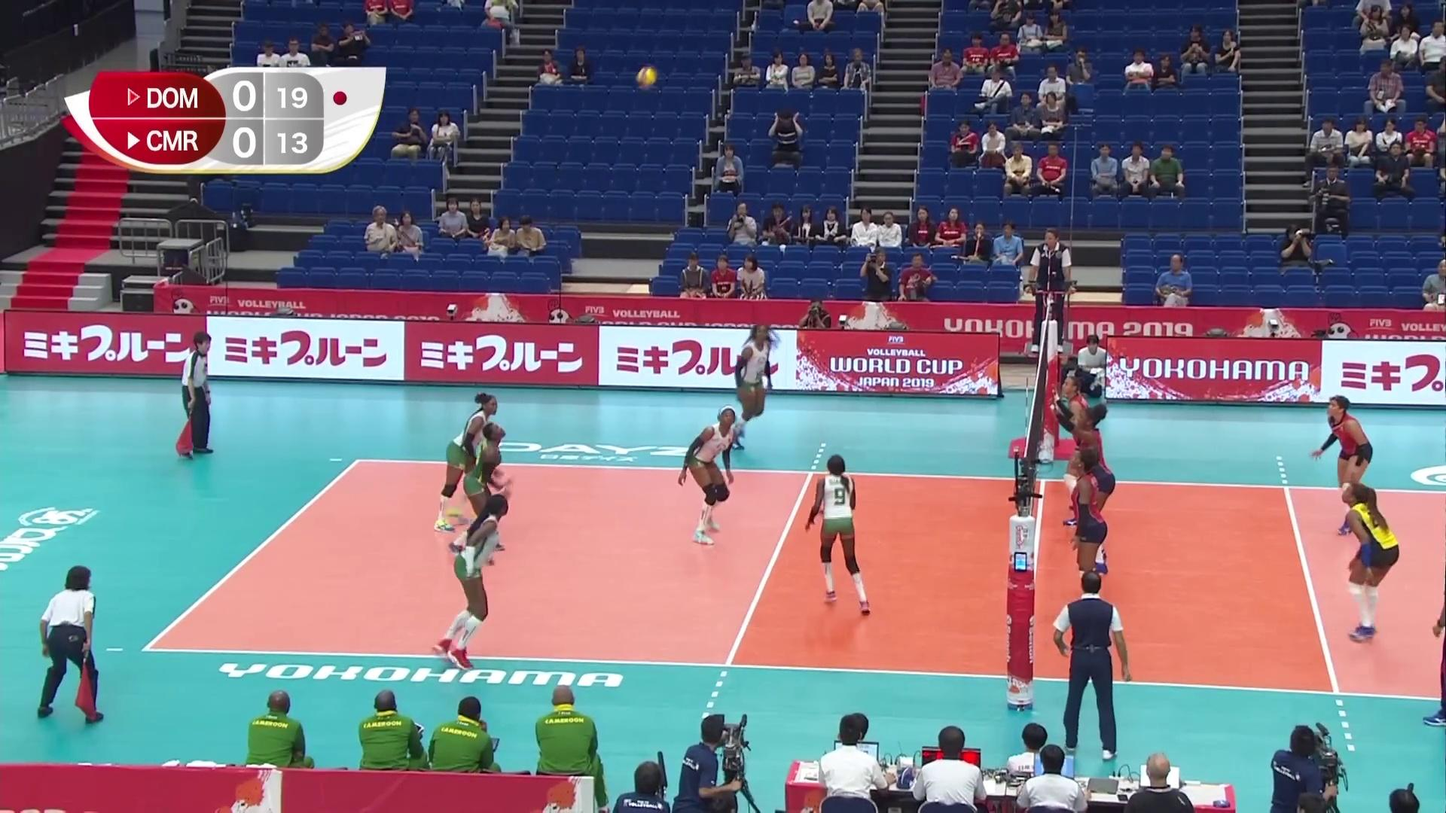player: (434, 495, 510, 668), (1056, 389, 1117, 575), (806, 454, 871, 615), (1339, 483, 1403, 641), (677, 405, 739, 546), (438, 394, 499, 535), (1314, 396, 1374, 533), (450, 424, 507, 562), (1070, 447, 1108, 633), (721, 324, 775, 453), (1057, 376, 1100, 529)
refree: (1055, 572, 1134, 760), (40, 567, 104, 720), (1028, 227, 1071, 349), (179, 330, 216, 458)
